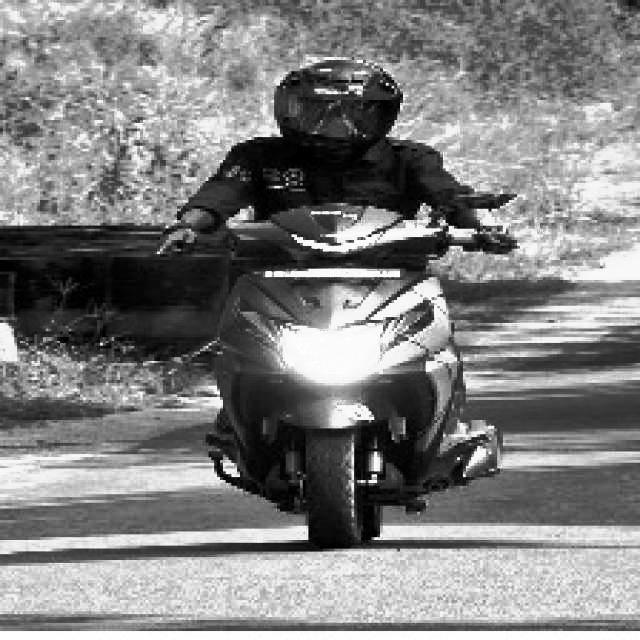Bike: (208, 209, 499, 551)
